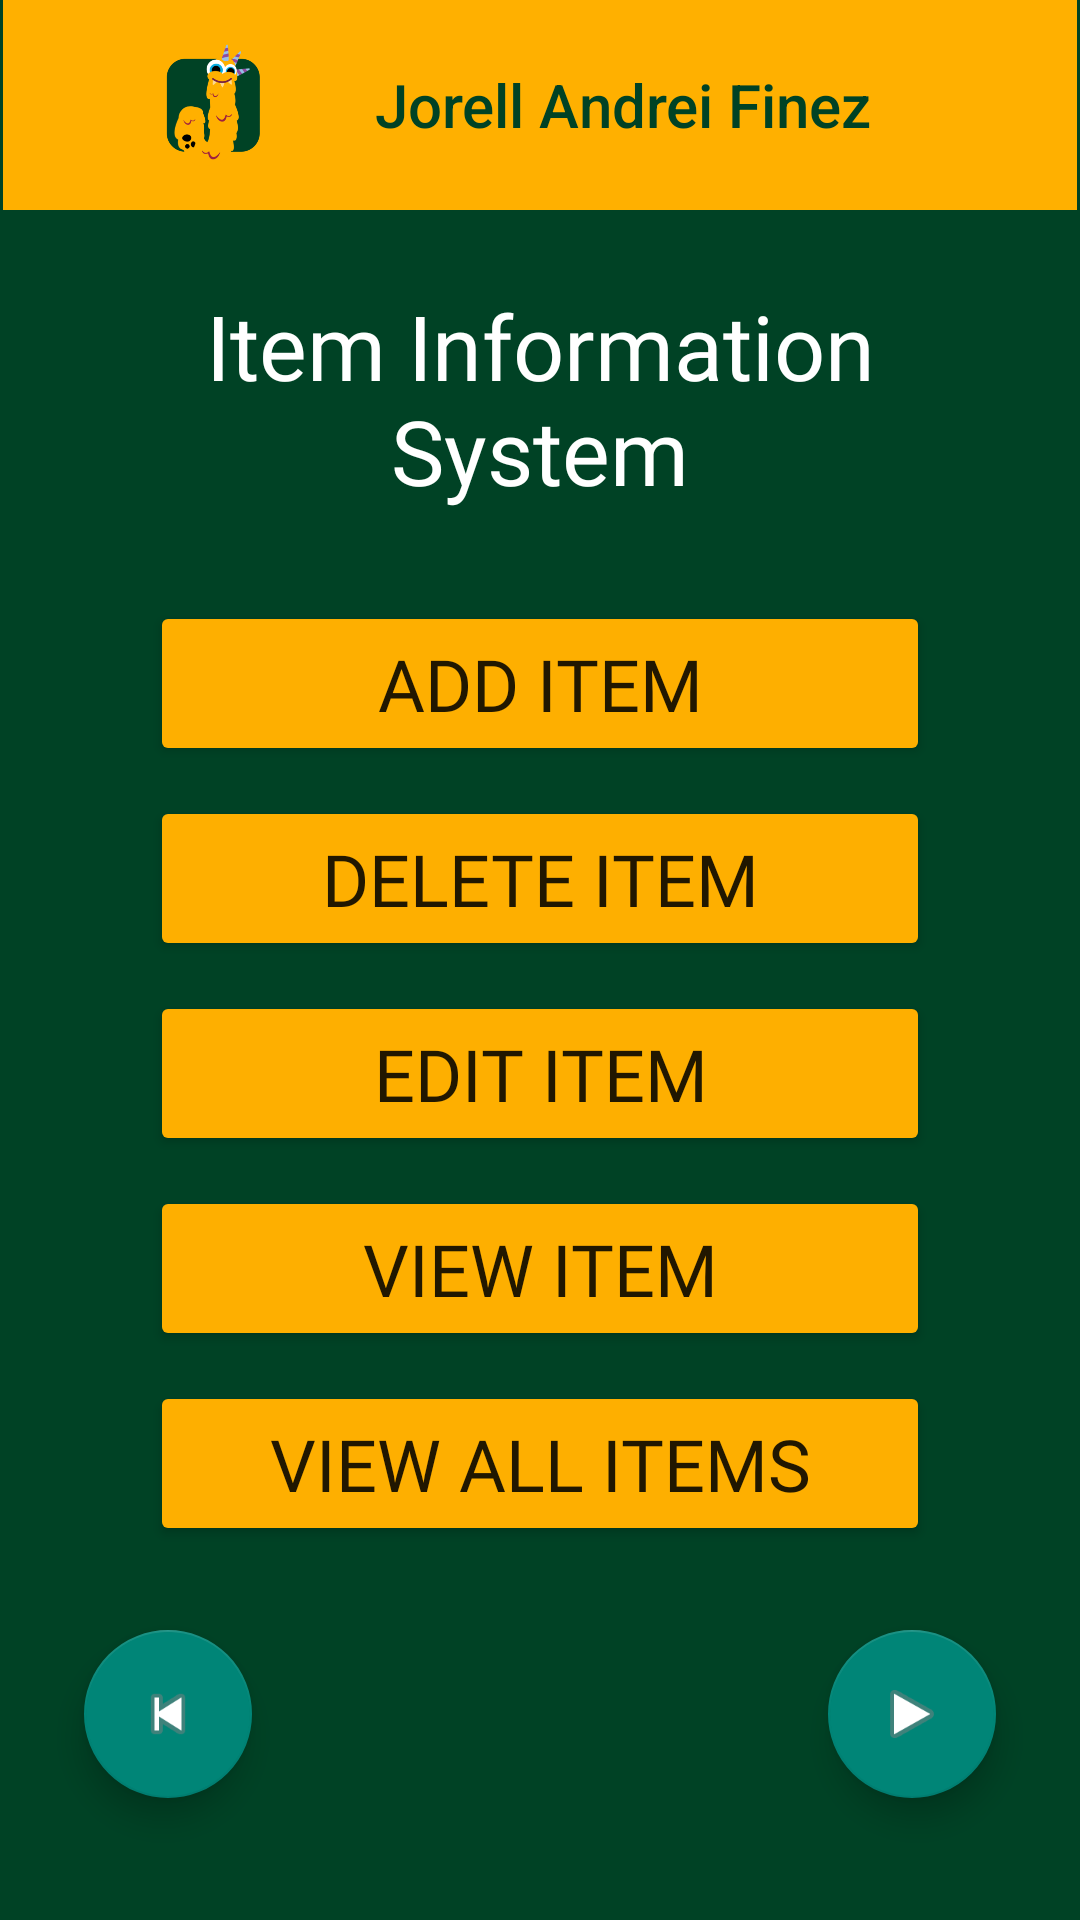

Icons on this 1080×1920 Android screen, each with the point to tap as (x,y):
play: (912,1714)
previous: (168,1714)
